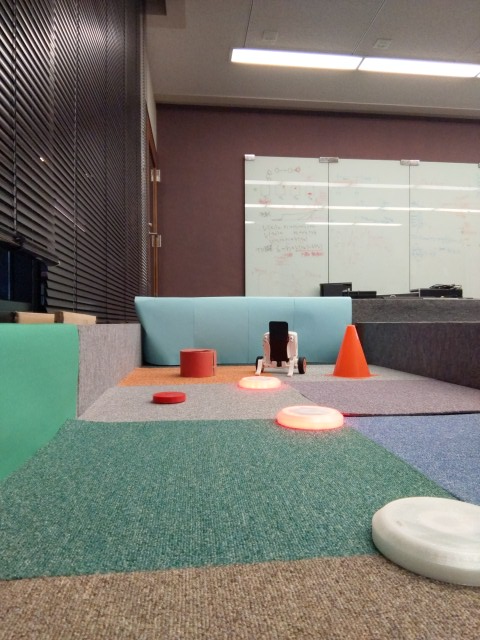f: (252, 319, 309, 374)
o: (364, 491, 480, 588)
r: (274, 400, 345, 433), (240, 374, 282, 392)
